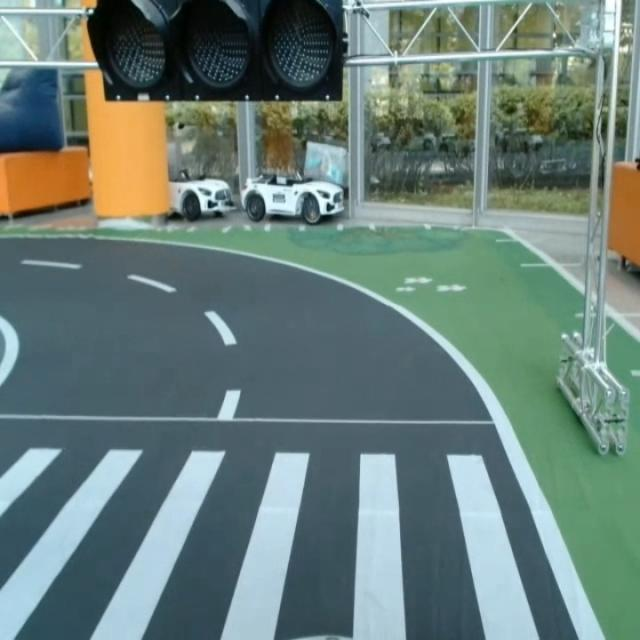traffic-light: (82, 0, 348, 104)
